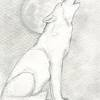Lobo: (3, 1, 83, 98)
